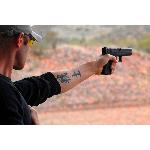Pistol: (100, 47, 132, 75)
